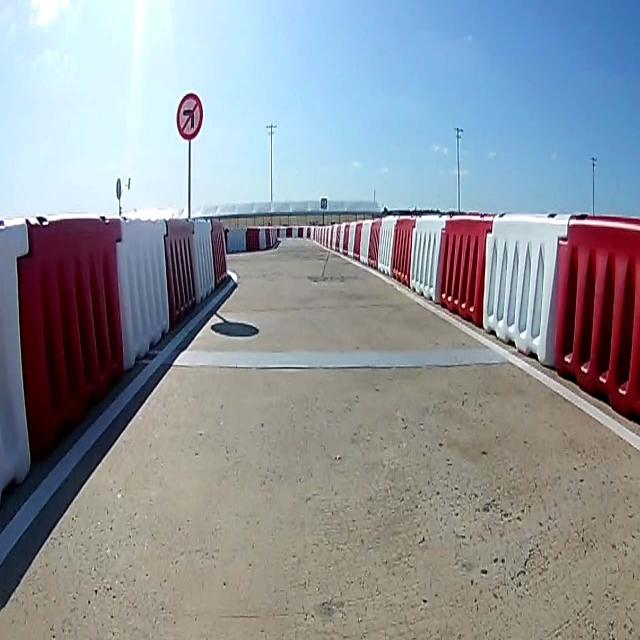soladonulmez: (176, 93, 204, 139)
